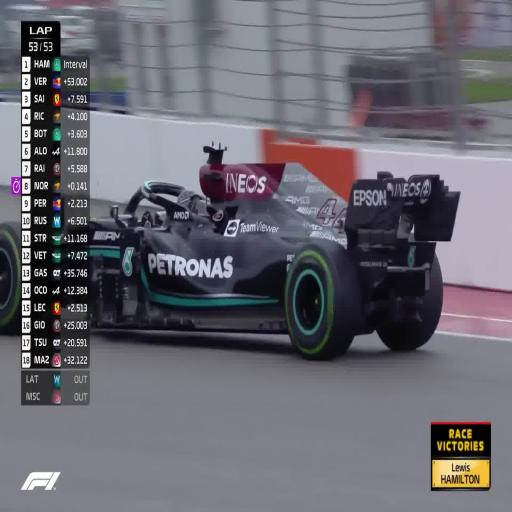f1_car: (77, 144, 459, 357), (0, 224, 20, 331), (62, 242, 65, 253), (62, 260, 66, 267), (63, 229, 65, 234), (67, 230, 71, 232), (63, 297, 65, 300), (63, 200, 65, 203), (68, 263, 68, 264)
